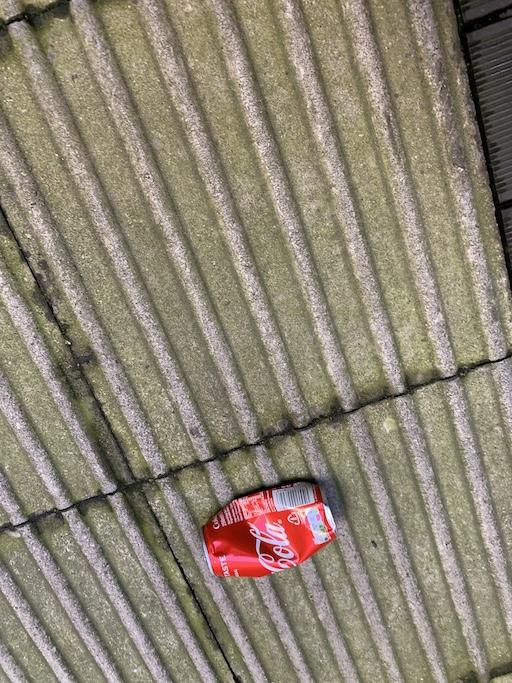Aluminum can: (184, 478, 358, 597)
